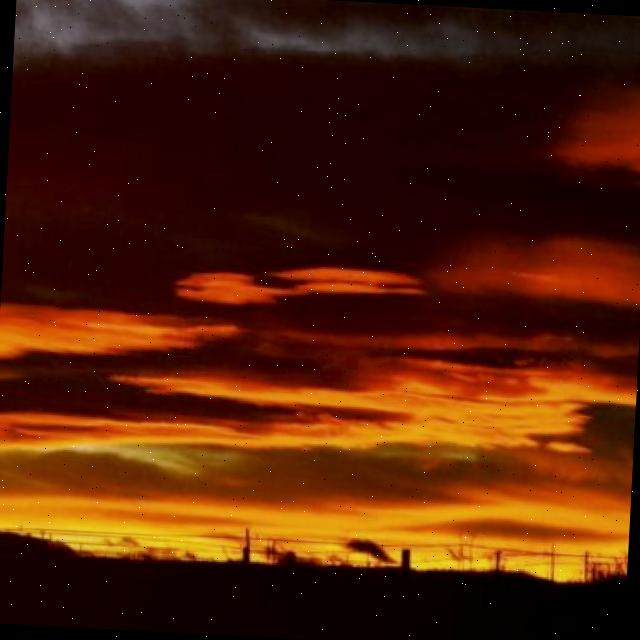As: (1, 49, 640, 516)
